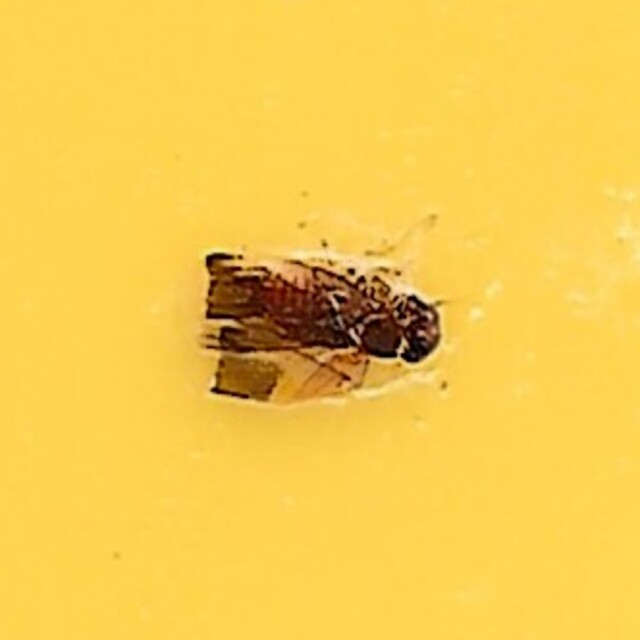Hemiptera: (193, 228, 447, 412)
